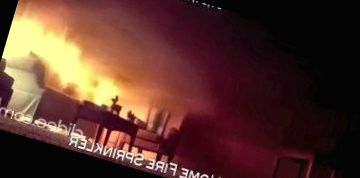fire: (0, 5, 169, 122)
